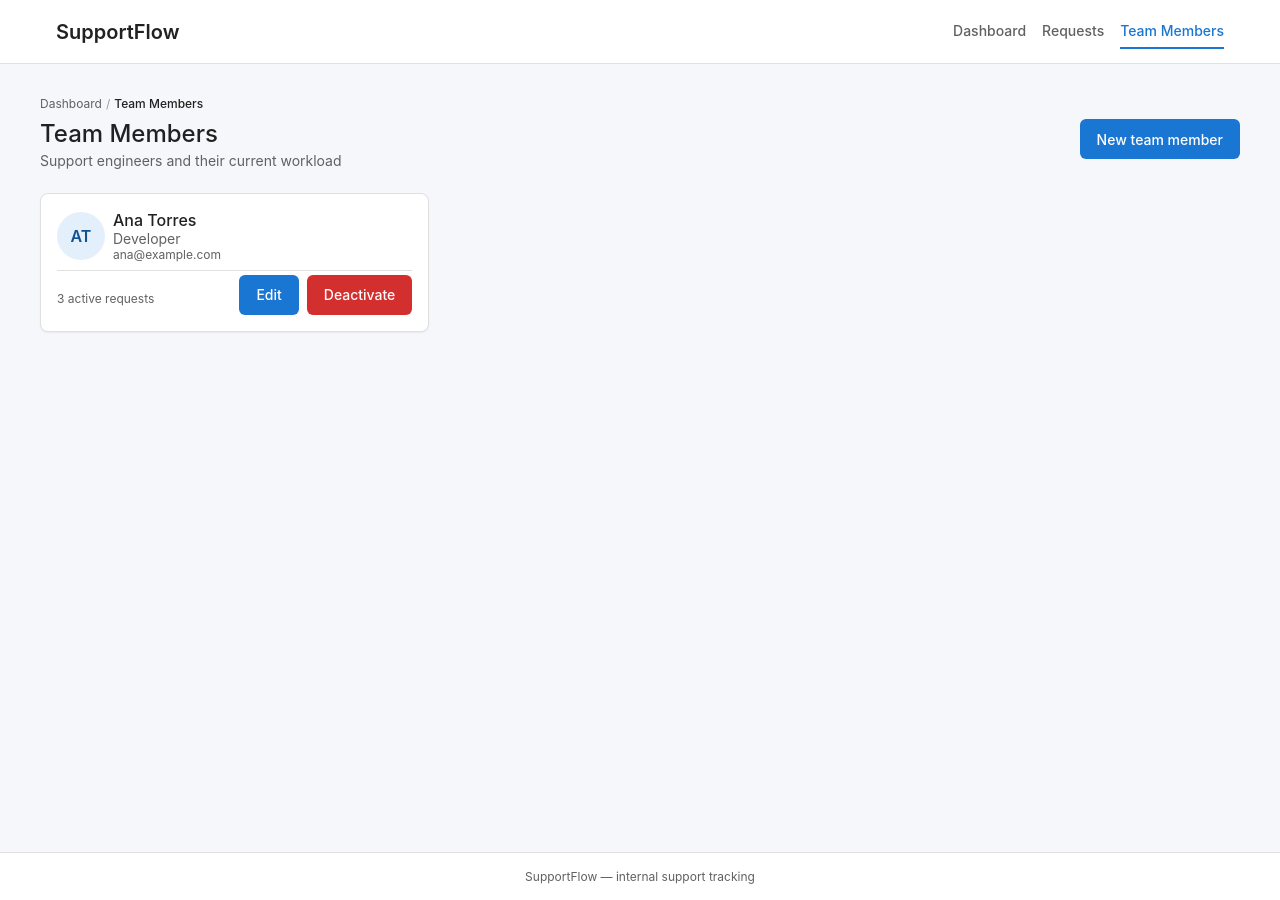
Test: TeamMembers › deactivating a member › shows an error message when deactivation fails
The width and height of the screenshot is (1280, 900).
Click the button "Deactivate" at (360, 294), box [307,274,412,314]
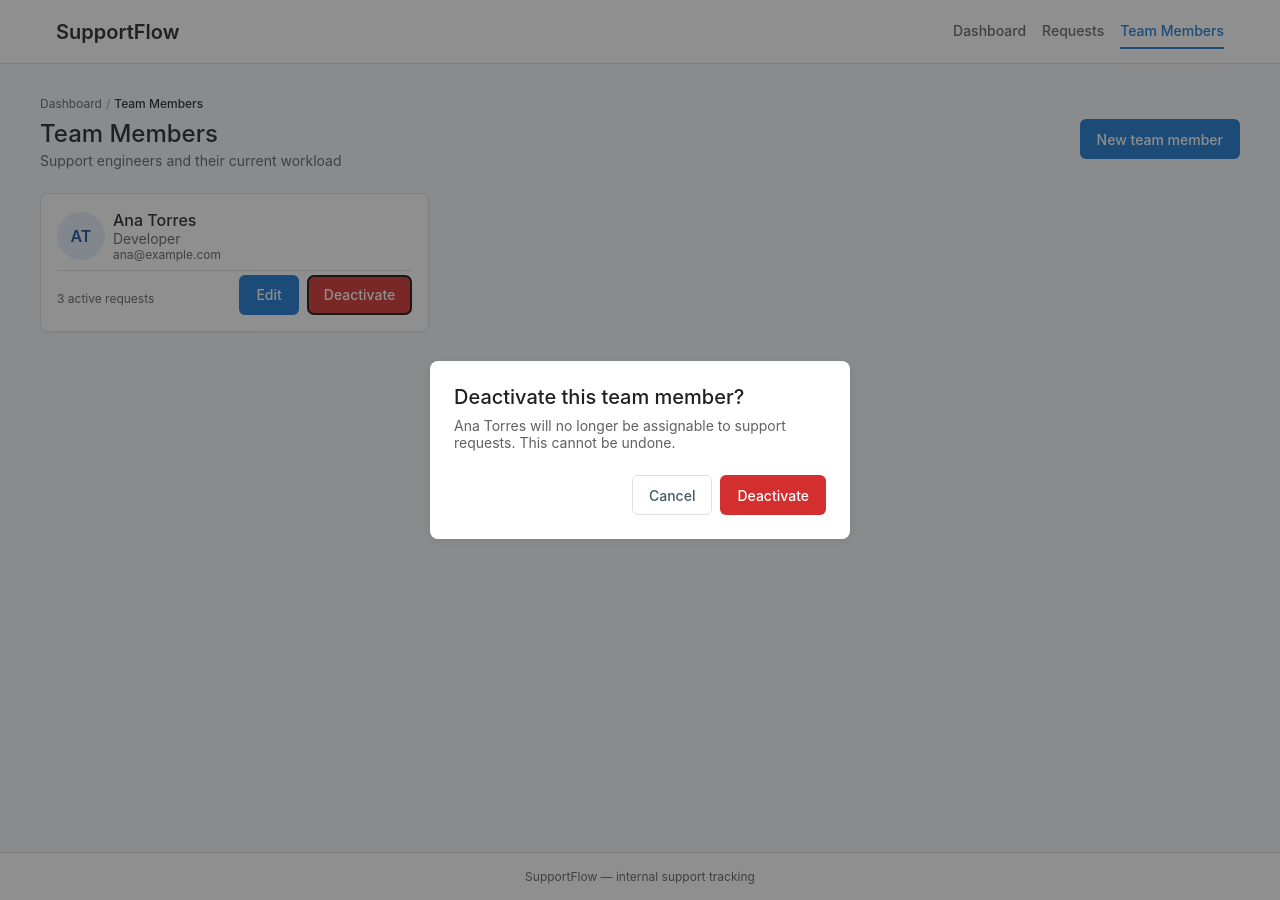
Click the button "Deactivate" at (773, 495), box [720,475,826,515]
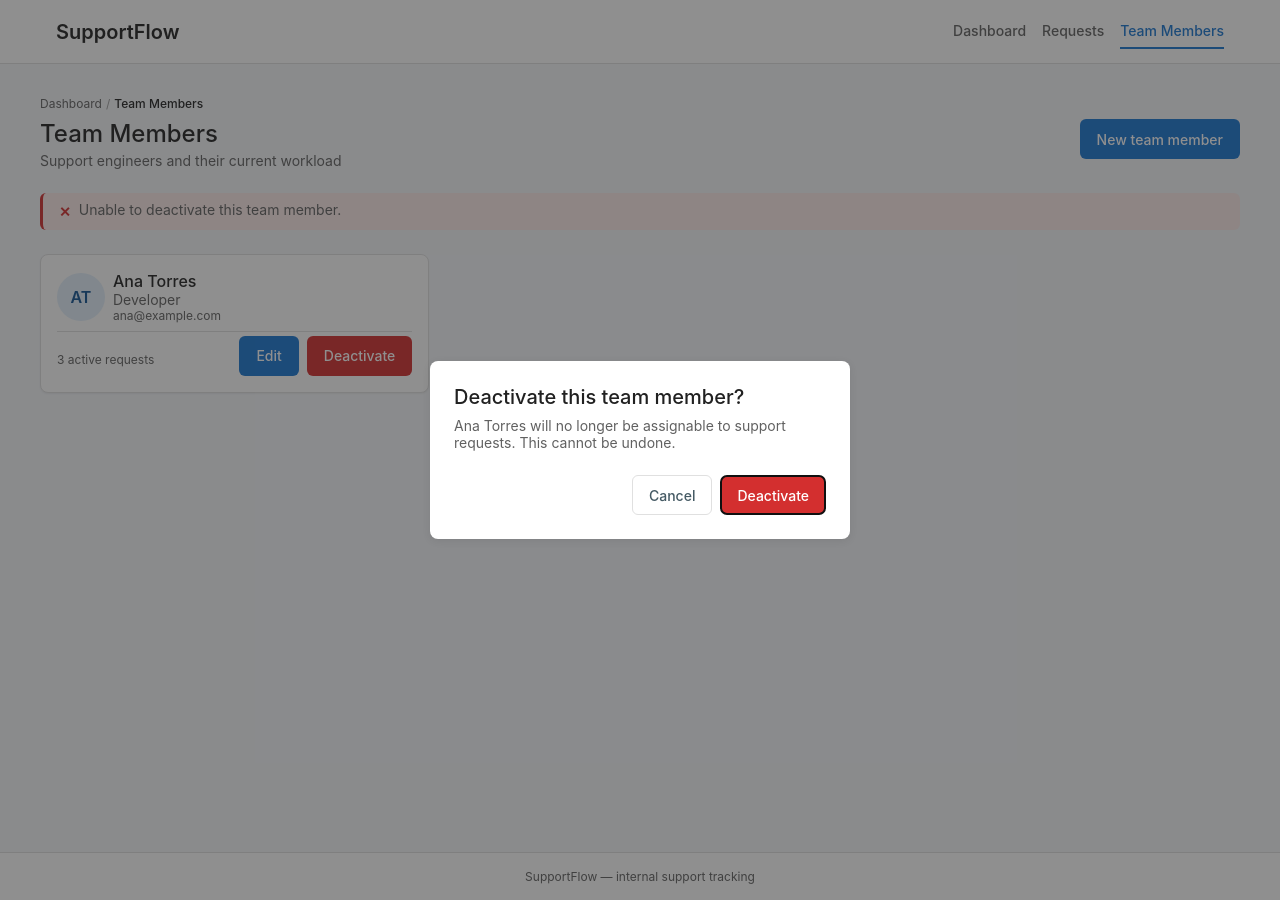
Expected: the dialog is shown, [430,361,850,539]
Expected: the text "Unable to deactivate this team member." is shown, [79,201,341,218]
